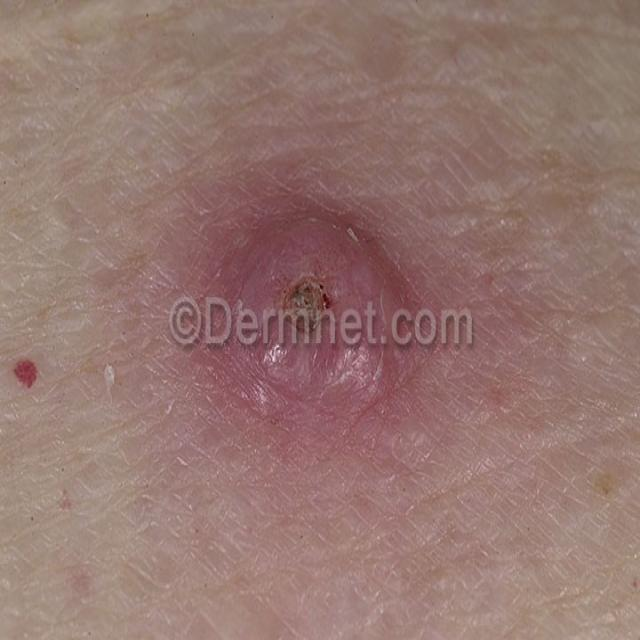Eczema: (186, 198, 408, 438)
